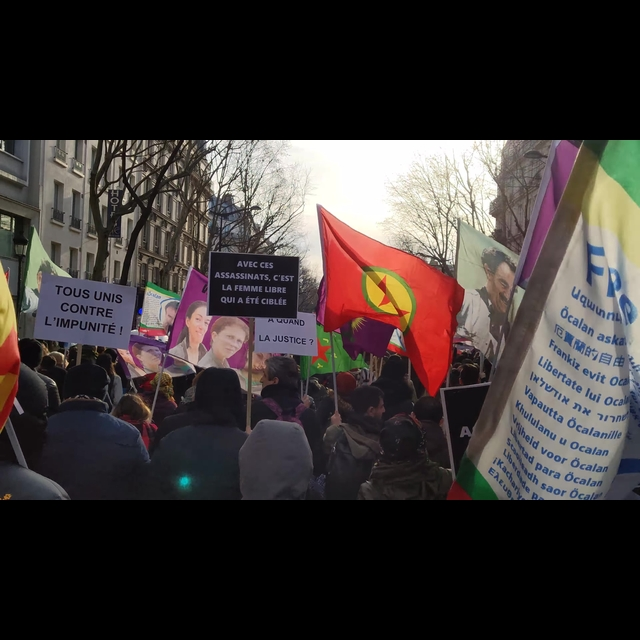PKK: (346, 259, 426, 321)
